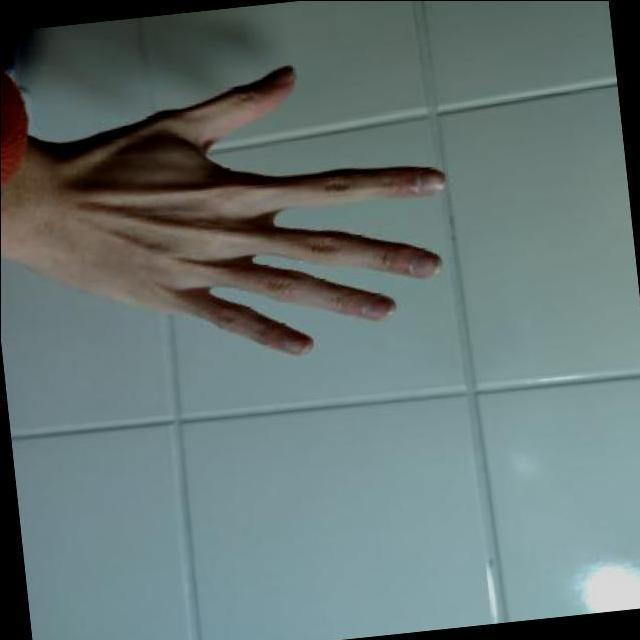Hand: (0, 62, 449, 362)
